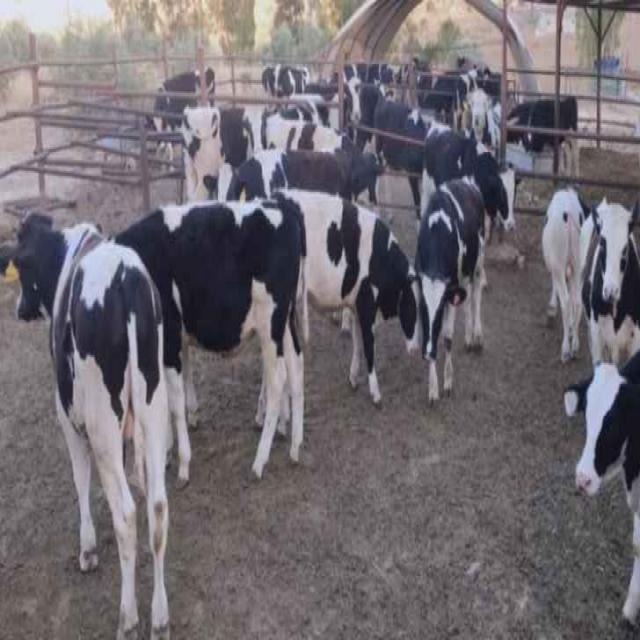cow: (10, 206, 184, 569), (118, 195, 305, 442), (257, 181, 422, 402), (546, 341, 640, 563), (220, 137, 356, 267), (389, 180, 497, 340), (413, 107, 519, 254), (567, 186, 640, 382), (170, 105, 281, 231)
